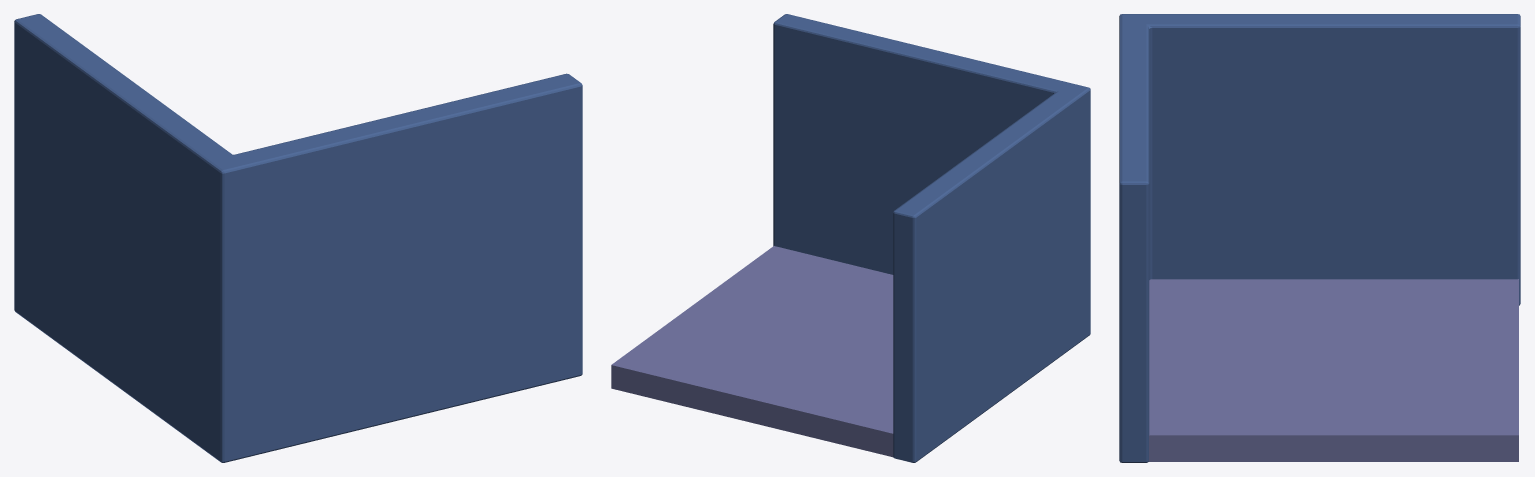
File: room.glb
The picture shows the model from 3 angles, left to right: view 1: azimuth 30°, elevation 25°; view 2: azimuth 150°, elevation 25°; view 3: azimuth 270°, elevation 25°; orthographic projection. The views are drawn at different scales.
Visible parts, largest first — view 1: Wall; view 2: Wall, WallBottom; view 3: Wall, WallBottom.
Part boxes in pixels (x1,y1,x2,y2): Wall: [14, 14, 582, 462]; Wall: [773, 14, 1090, 462]; WallBottom: [611, 246, 893, 457]; Wall: [1119, 14, 1520, 462]; WallBottom: [1148, 279, 1518, 461].
Size of the model in its own units: 2 by 1.55 by 2.
